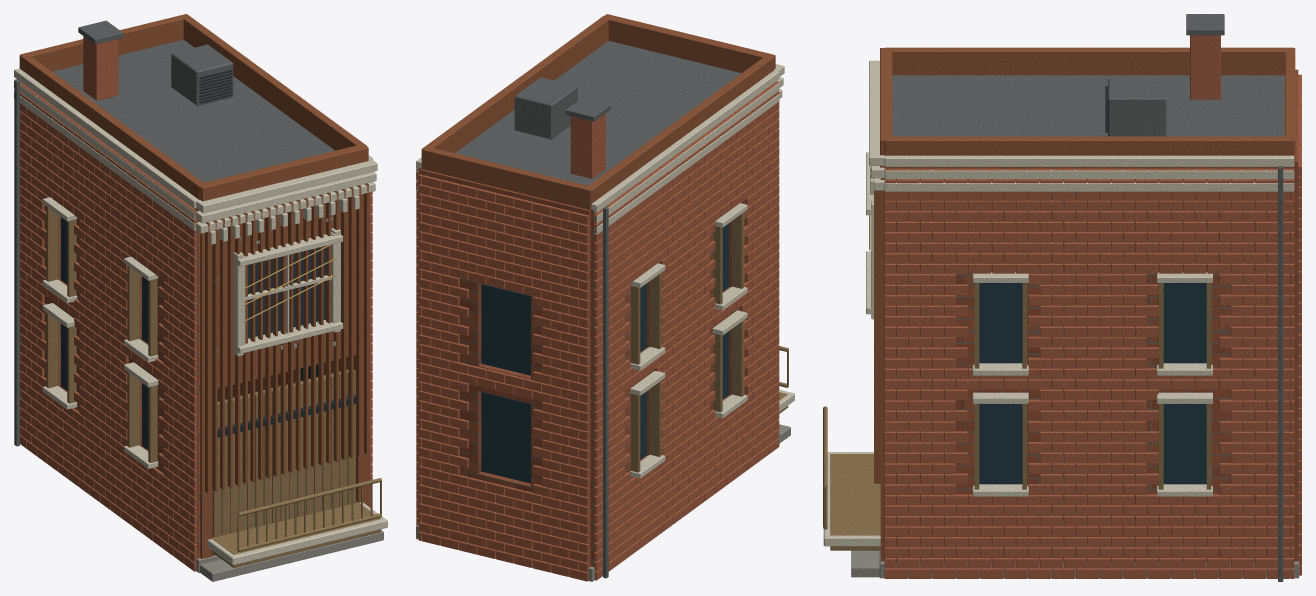
File: WHSE17_lod0.glb
The picture shows the model from 3 angles, left to right: view 1: azimuth 30°, elevation 25°; view 2: azimuth 150°, elevation 25°; view 3: azimuth 270°, elevation 25°; orthographic projection. The views are drawn at different scales.
Parts seen in each view (by area): view 1: WHSE17_LOD0; view 2: WHSE17_LOD0; view 3: WHSE17_LOD0.
Boxes of the visible parts, box(x1,y1,x2,y2) form: WHSE17_LOD0: box(14, 14, 387, 581); WHSE17_LOD0: box(416, 14, 794, 581); WHSE17_LOD0: box(823, 14, 1301, 581).
Bounding box in the file's own units: 3.71 × 7.85 × 7.02.
13 materials, 10 textured.
